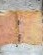Corrosion: (1, 8, 43, 48)
